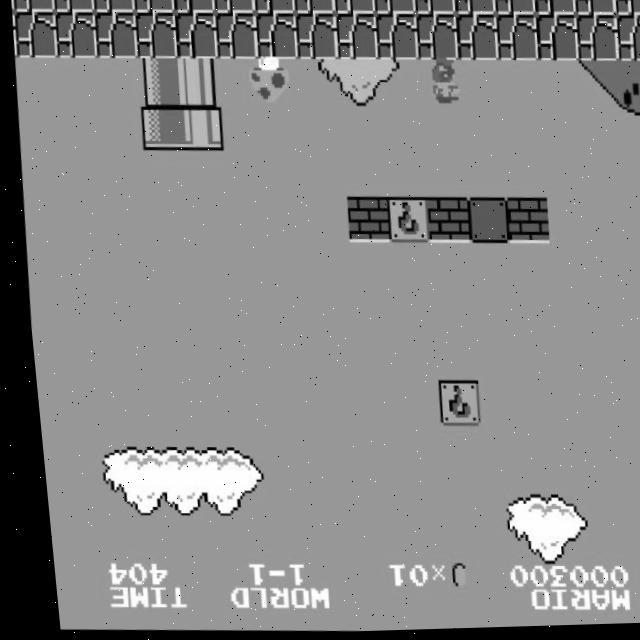1- brick_block: (500, 199, 547, 247), (420, 198, 466, 246), (340, 197, 386, 245)
11- little_mario: (420, 58, 469, 109)
12- mushroom: (244, 56, 293, 107)
13- mystery_block: (427, 382, 474, 429), (380, 198, 426, 246)
14- pipe: (174, 59, 220, 107), (134, 58, 180, 106)
15- pipe_head: (176, 104, 222, 152), (136, 104, 182, 152)
17- undestructible_block: (412, 15, 459, 63), (372, 15, 419, 63), (332, 14, 379, 62), (292, 14, 339, 62), (252, 13, 299, 61), (212, 13, 259, 61), (51, 11, 98, 59), (573, 17, 619, 65), (533, 17, 579, 65), (493, 16, 539, 64), (453, 16, 499, 64), (172, 13, 218, 61), (132, 12, 178, 60), (92, 11, 138, 59), (12, 11, 58, 59), (613, 17, 640, 65), (573, 0, 617, 20), (492, 0, 536, 19), (533, 0, 576, 19), (452, 0, 496, 18), (412, 0, 456, 18), (372, 0, 416, 17), (333, 0, 376, 17), (292, 0, 336, 16), (252, 0, 296, 15), (212, 0, 256, 15), (172, 0, 215, 15), (132, 0, 175, 14), (92, 0, 135, 14), (52, 0, 95, 13), (12, 0, 55, 13), (614, 0, 640, 20), (10, 12, 18, 58), (10, 0, 15, 12)
3- empty_block: (460, 199, 506, 247)
